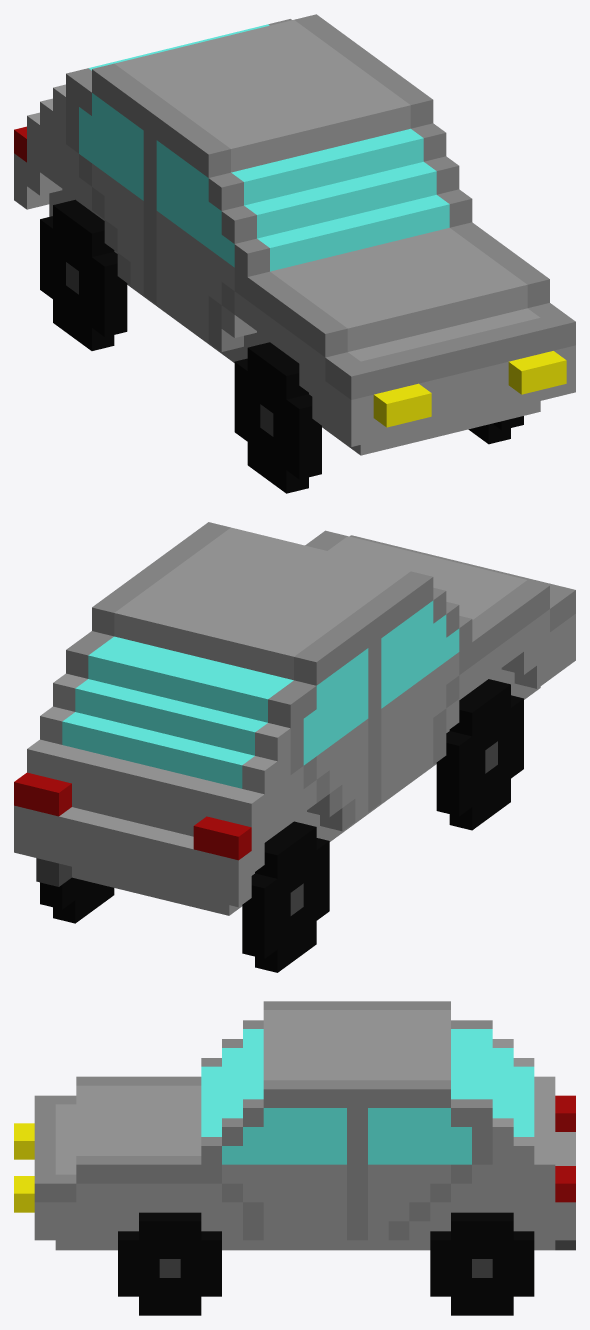
Rendered from car.glb.
The picture shows the model from 3 angles, top to bottom: view 1: azimuth 30°, elevation 25°; view 2: azimuth 150°, elevation 25°; view 3: azimuth 270°, elevation 25°; orthographic projection. The views are drawn at different scales.
Visible parts, largest first — view 1: car; view 2: car; view 3: car.
Boxes of the visible parts, <box> form: car: <box>14,14,575,493</box>; car: <box>14,522,575,972</box>; car: <box>14,1001,575,1315</box>.
Size of the model in its own units: 1 by 1.2 by 2.7.
Materials: 1 (1 with a texture image).
